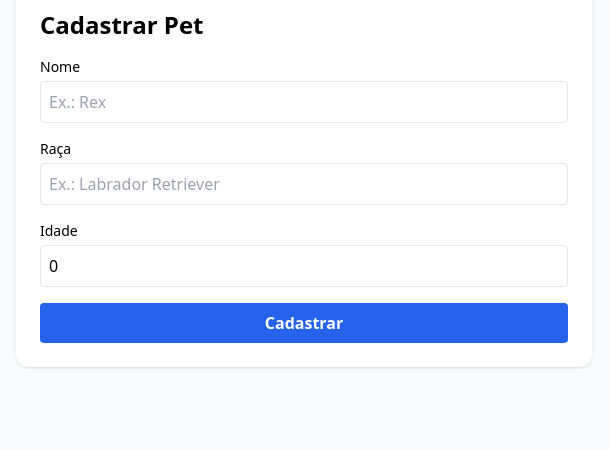
Test: PetCreate › cadastra com sucesso, mostra mensagem e limpa formulário
Type "Rex" into the field with placeholder "Ex.: Rex".
click(304, 102); type("Rex")  # box [40,81,568,123]
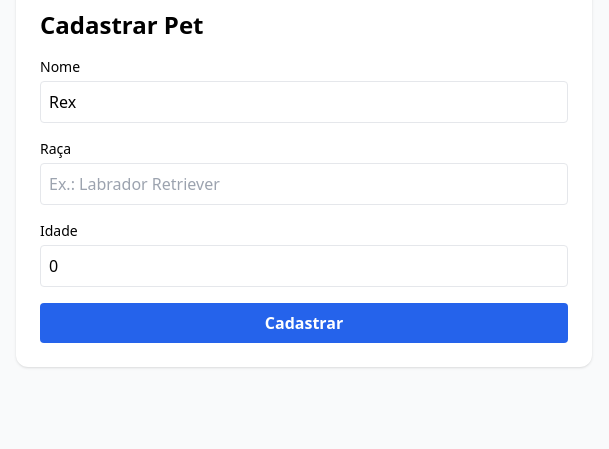
Type "Labrador Retriever" into the field with placeholder "Ex.: Labrador Retriever".
click(304, 184); type("Labrador Retriever")  # box [40,163,568,205]
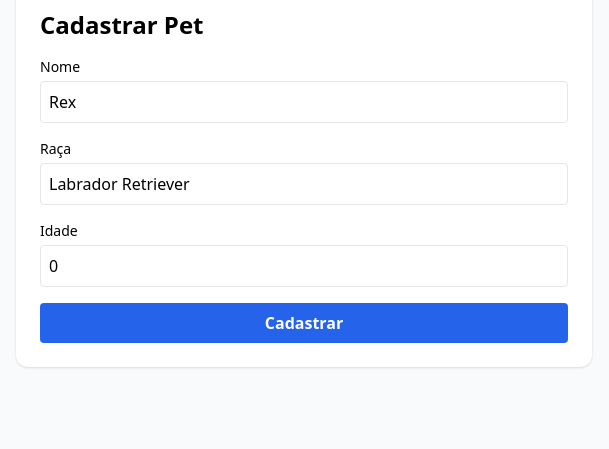
Replace the text in the number field with "3" at (304, 266), box [40,245,568,287]
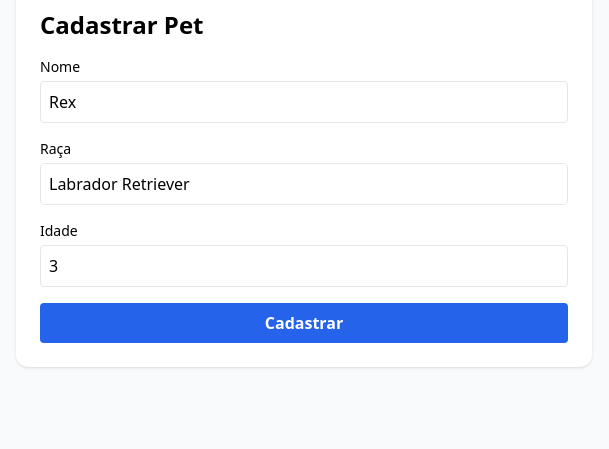
Click the button "Cadastrar".
click(304, 323)  # box [40,303,568,343]
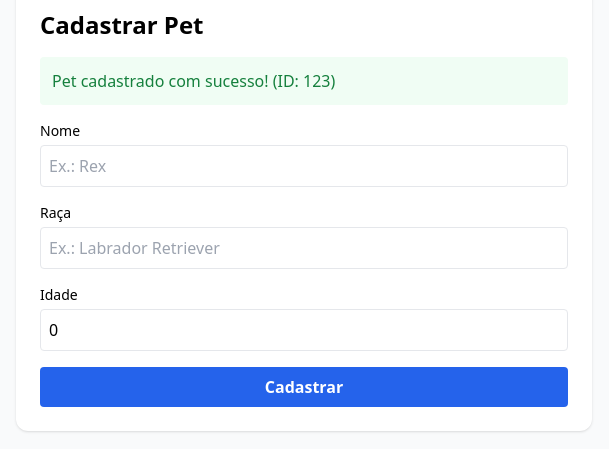
Expected: the text "Pet cadastrado com sucesso! (ID: 123)" is shown, [40,57,568,105]
Expected: the field with placeholder "Ex.: Rex" is empty, [40,145,568,187]
Expected: the field with placeholder "Ex.: Labrador Retriever" is empty, [40,227,568,269]
